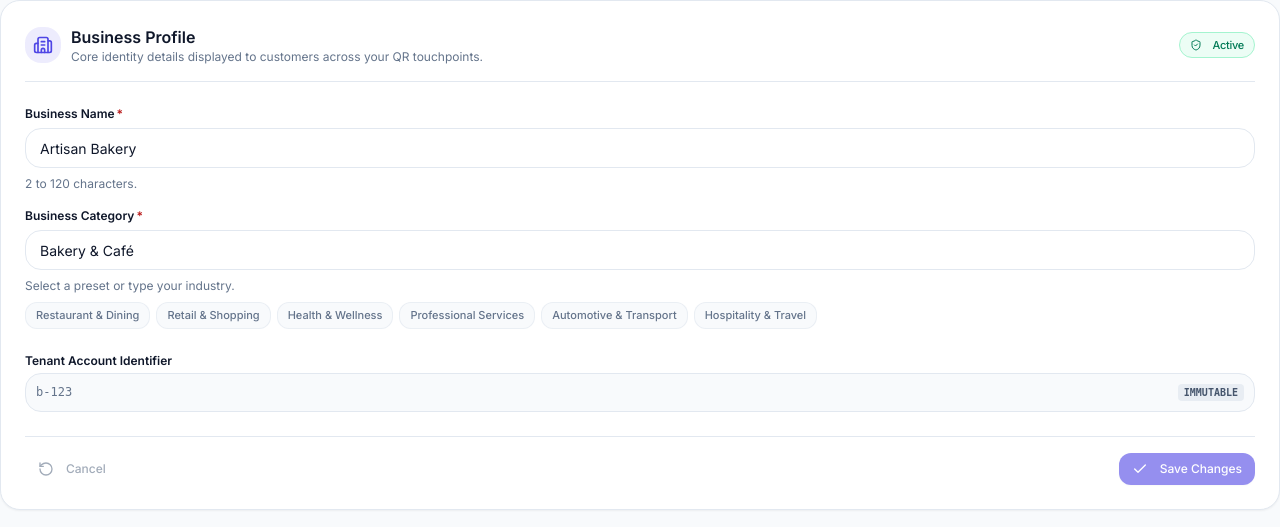
Test: BusinessProfileForm Component › updates category input when clicking a category preset button
This screenshot has width=1280, height=527.
Click the button "Health & Wellness": (335, 315) [277,302,394,328]
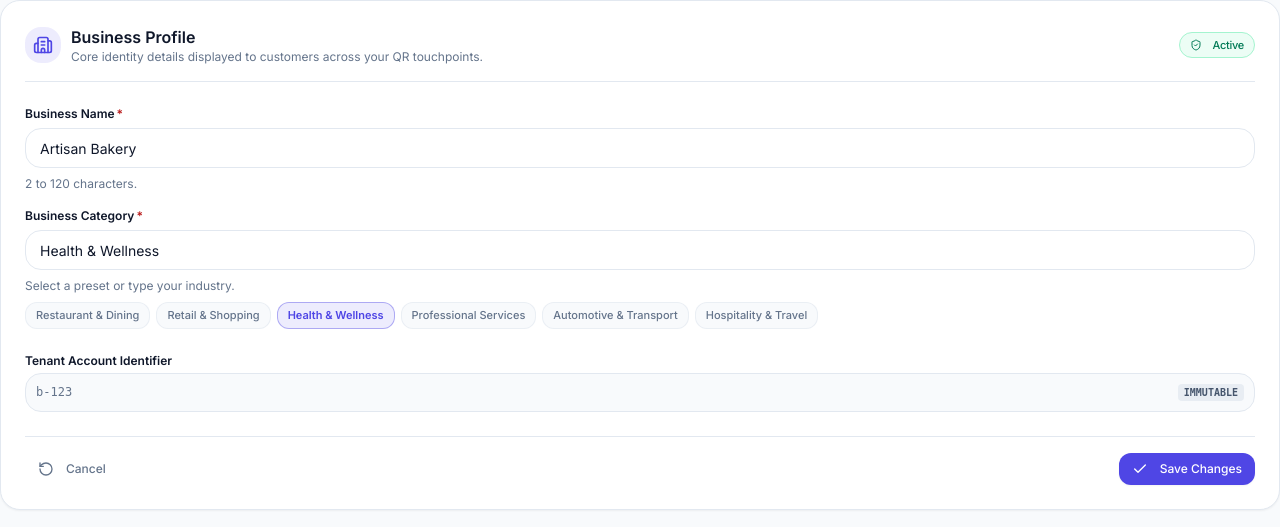
Expected: the field labelled "Business Category*" holds "Health & Wellness", [25,230,1255,270]
Expected: the button "Save Changes" is enabled, [1119,453,1255,485]
